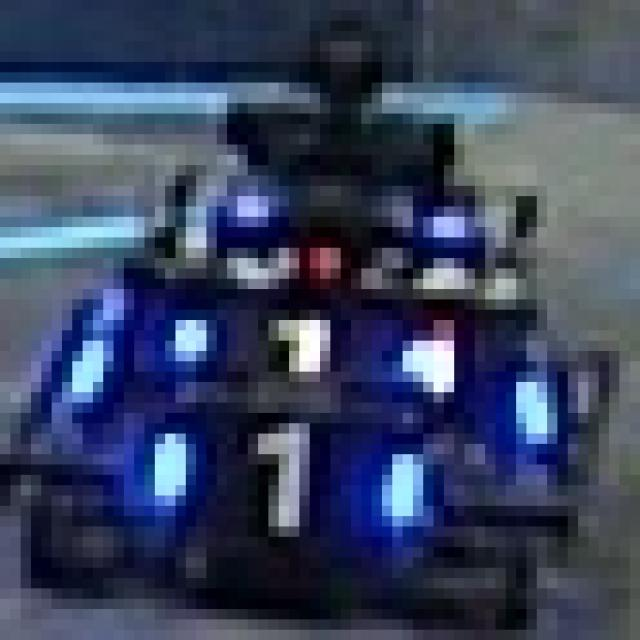B1: (155, 289, 485, 392), (144, 408, 444, 521)
